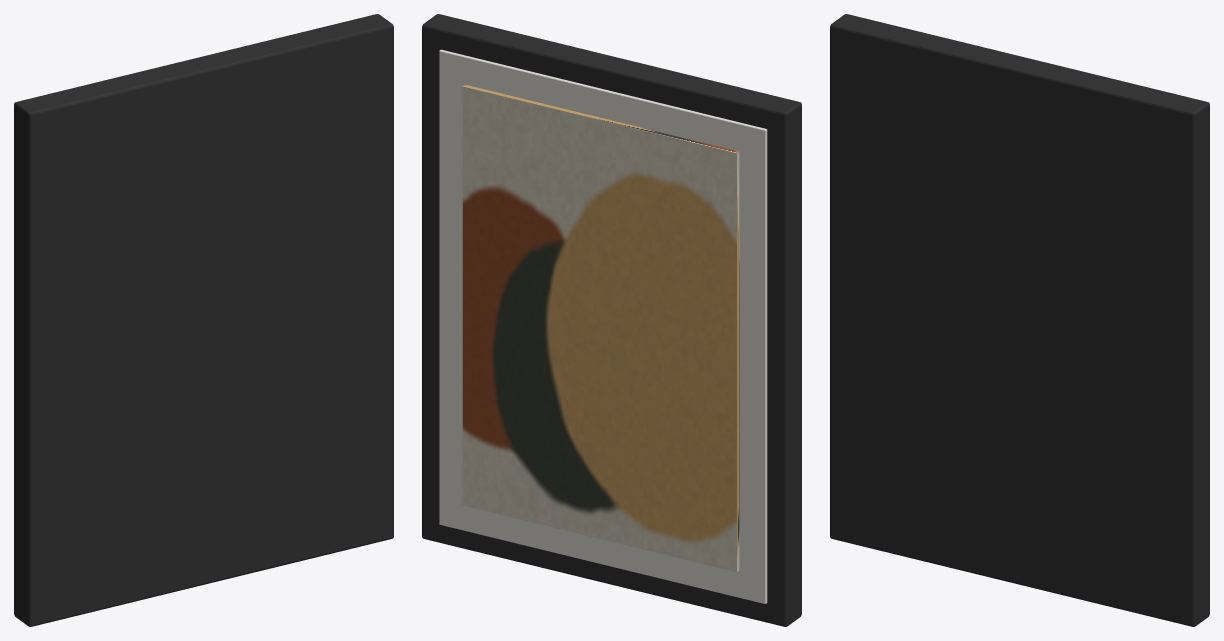
The model's file is corridor_art_b0.glb.
3 views of the same model, side by side, from view 1: azimuth 30°, elevation 25°; view 2: azimuth 150°, elevation 25°; view 3: azimuth 330°, elevation 25° (orthographic).
Parts seen in each view (by area): view 1: corridor_art_b0; view 2: corridor_art_b0; view 3: corridor_art_b0.
Boxes of the visible parts, x1,y1,x2,y2 form: corridor_art_b0: (14, 14, 393, 626); corridor_art_b0: (422, 14, 801, 626); corridor_art_b0: (830, 14, 1209, 626).
Bounding box in the file's own units: 0.52 × 0.7 × 0.05.
3 materials, 1 textured.
